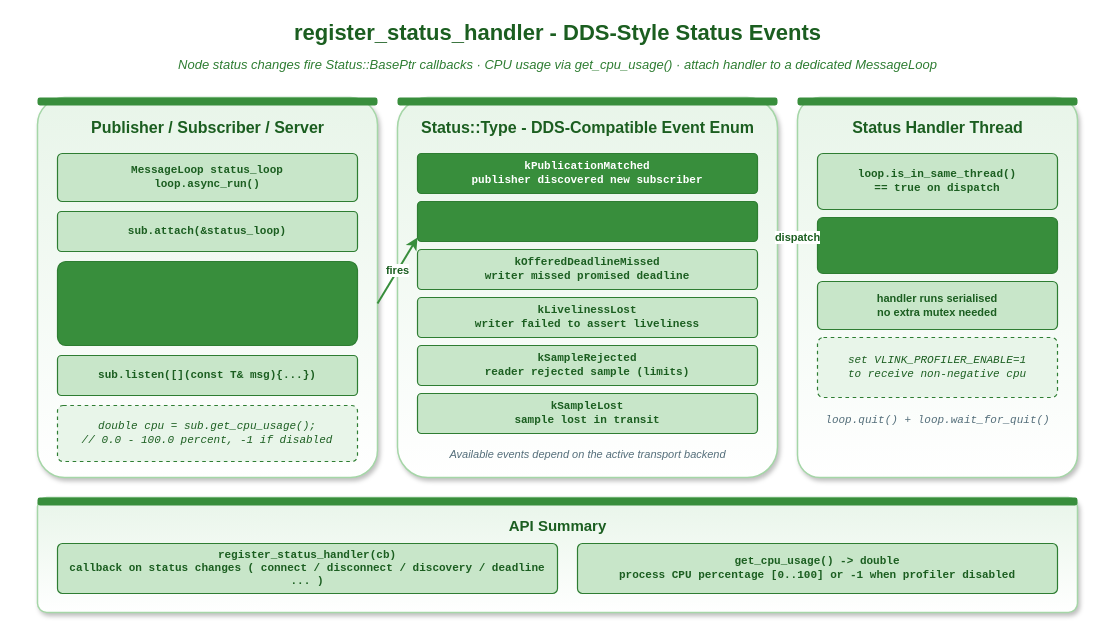
Some shapes in this 1114 by 637 pixel diagram are drawn without their labels. The shapes that lost their labels are listed below. From the top down, each one's centre as x and y in pixels, then its label:
(x=587, y=221): kSubscriptionMatched subscriber discovered new publisher
(x=937, y=245): status_loop ( dedicated thread )
(x=207, y=303): sub.register_status_handler( [](Status::BasePtr s){ s->get_type(); })
